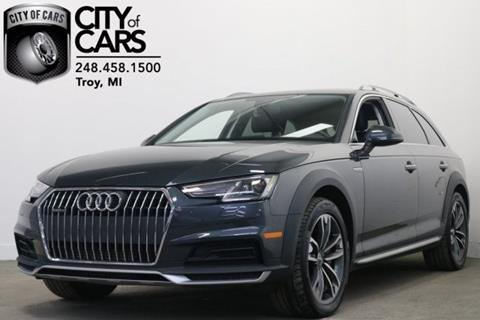Carro: (10, 79, 472, 320)
